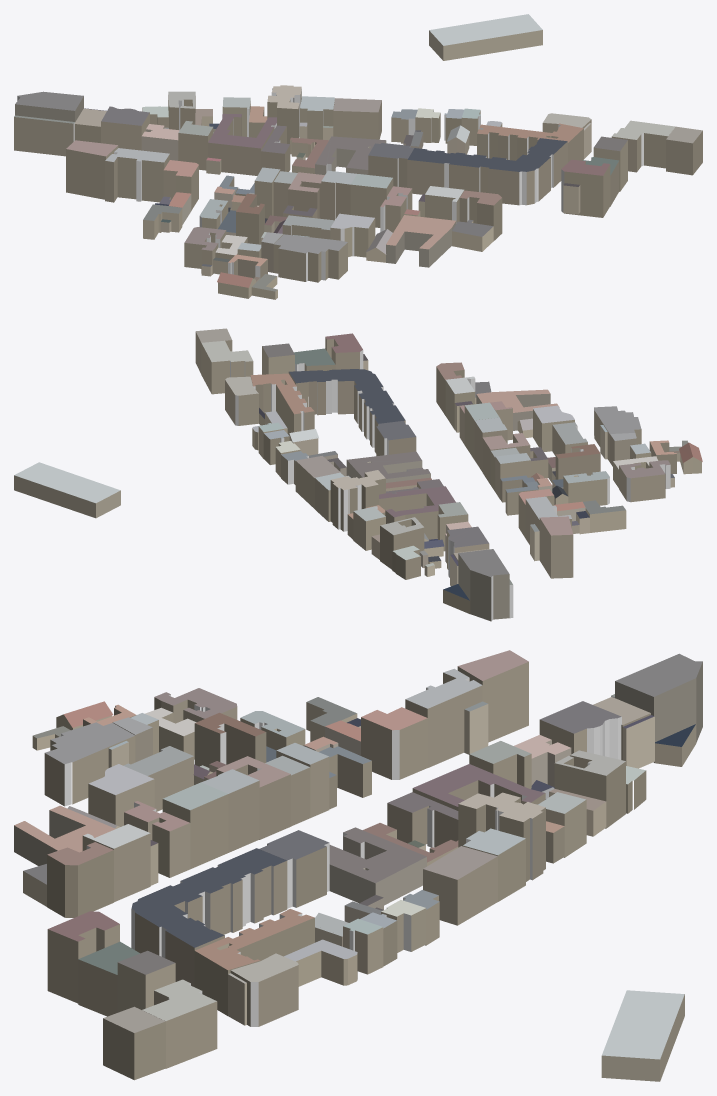
3 renders of one model, top to bottom at view 1: azimuth 30°, elevation 25°; view 2: azimuth 150°, elevation 25°; view 3: azimuth 270°, elevation 25°, orthographic. The views are drawn at different scales.
Parts seen in each view (by area): view 1: tuile; view 2: tuile; view 3: tuile.
Boxes of the visible parts, <box> form: tuile: <box>14,14,702,299</box>; tuile: <box>14,328,702,621</box>; tuile: <box>14,650,702,1081</box>.
Bounding box in the file's own units: 269 × 24.33 × 212.
